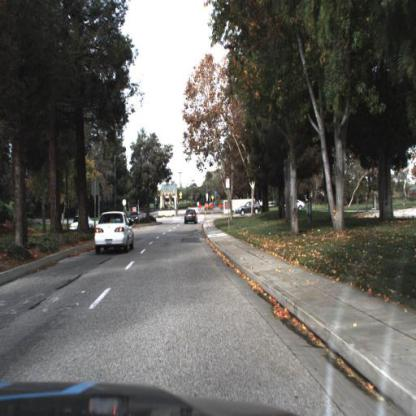car: (91, 209, 135, 250), (67, 211, 95, 231), (234, 199, 262, 215), (284, 196, 306, 212), (183, 206, 198, 225), (128, 211, 142, 224)
